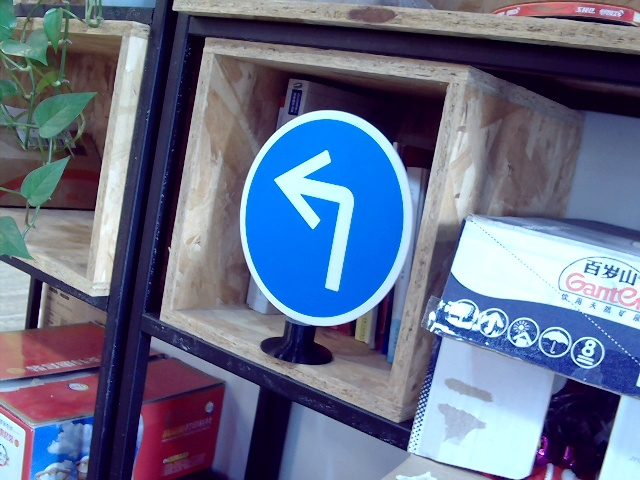turn_left: (268, 148, 363, 290)
